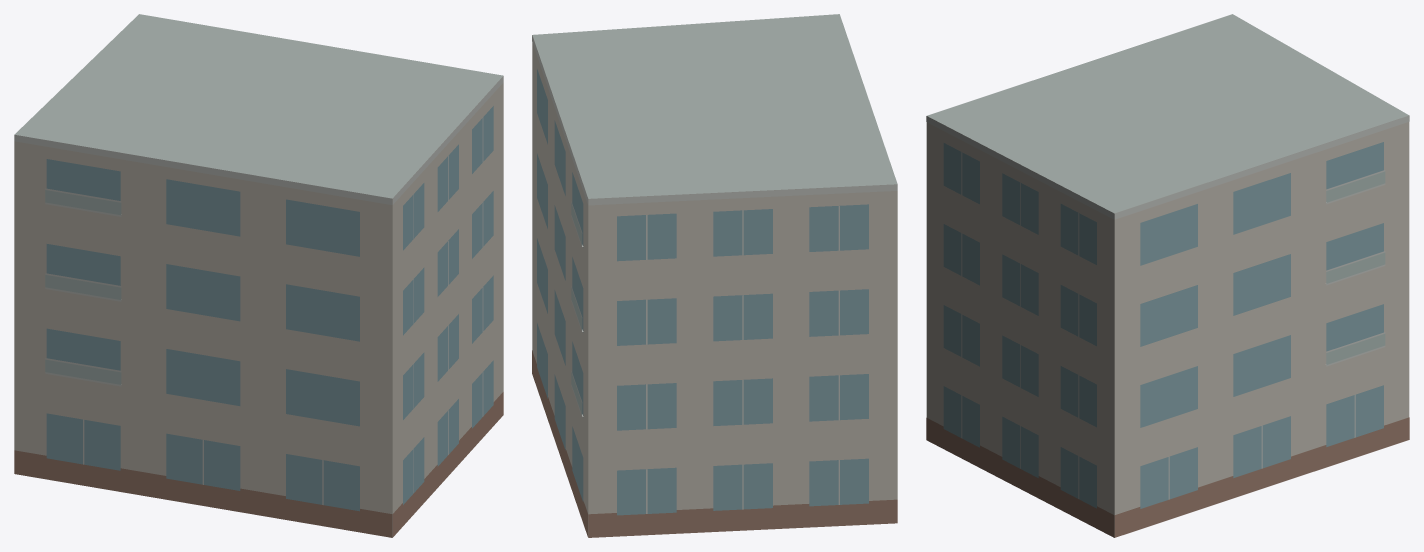
File: survey-upis-32808832.glb
3 renders of one model, left to right at view 1: azimuth 30°, elevation 25°; view 2: azimuth 150°, elevation 25°; view 3: azimuth 270°, elevation 25°, orthographic. The views are drawn at different scales.
Visible parts, largest first — view 1: survey-upis-32808832.tmp; view 2: survey-upis-32808832.tmp; view 3: survey-upis-32808832.tmp.
Part boxes in pixels (box(x1,y1,x2,y2)): survey-upis-32808832.tmp: box(14, 14, 503, 537); survey-upis-32808832.tmp: box(532, 14, 897, 537); survey-upis-32808832.tmp: box(926, 14, 1409, 537).
Bounding box in the file's own units: 16.63 × 12.6 × 17.01.
